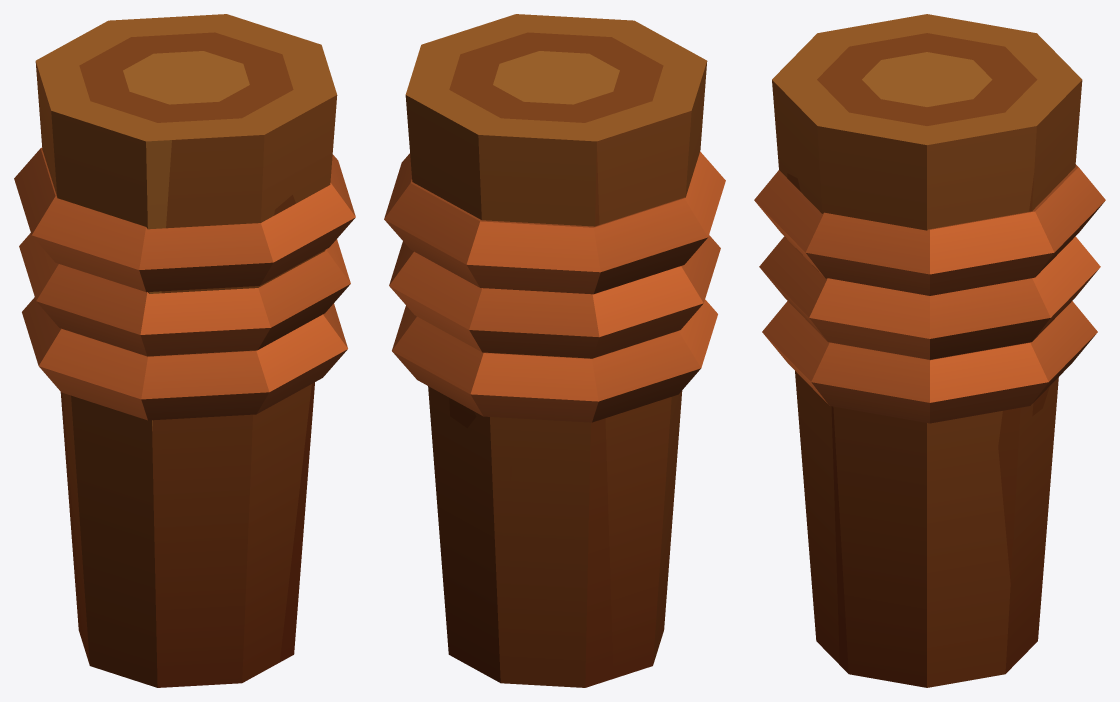
The model's file is fence_post.glb.
3 renders of one model, left to right at view 1: azimuth 30°, elevation 25°; view 2: azimuth 150°, elevation 25°; view 3: azimuth 270°, elevation 25°, orthographic.
Parts seen in each view (by area): view 1: fence_post; view 2: fence_post; view 3: fence_post.
Part boxes in pixels (x1,y1,x2,y2): fence_post: (14,14,355,687); fence_post: (384,14,725,687); fence_post: (754,14,1105,687).
Size of the model in its own units: 0.2472 by 0.4352 by 0.2472.
Materials: 1 (1 with a texture image).
